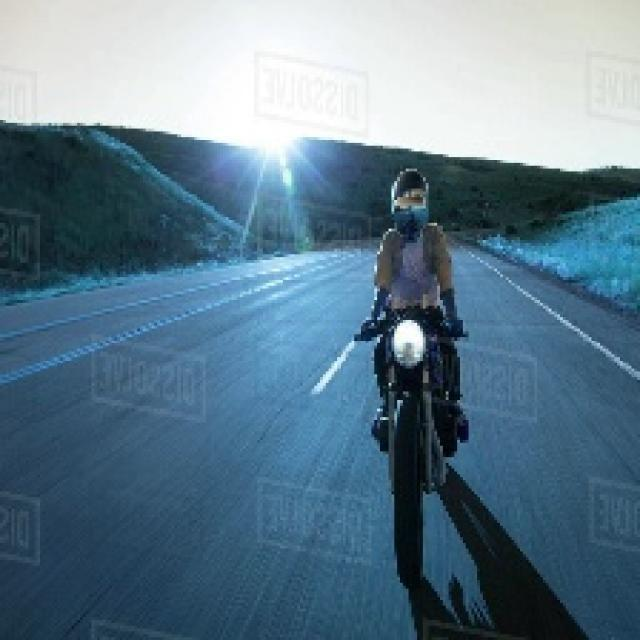Motorcycle: (374, 290, 454, 574)
